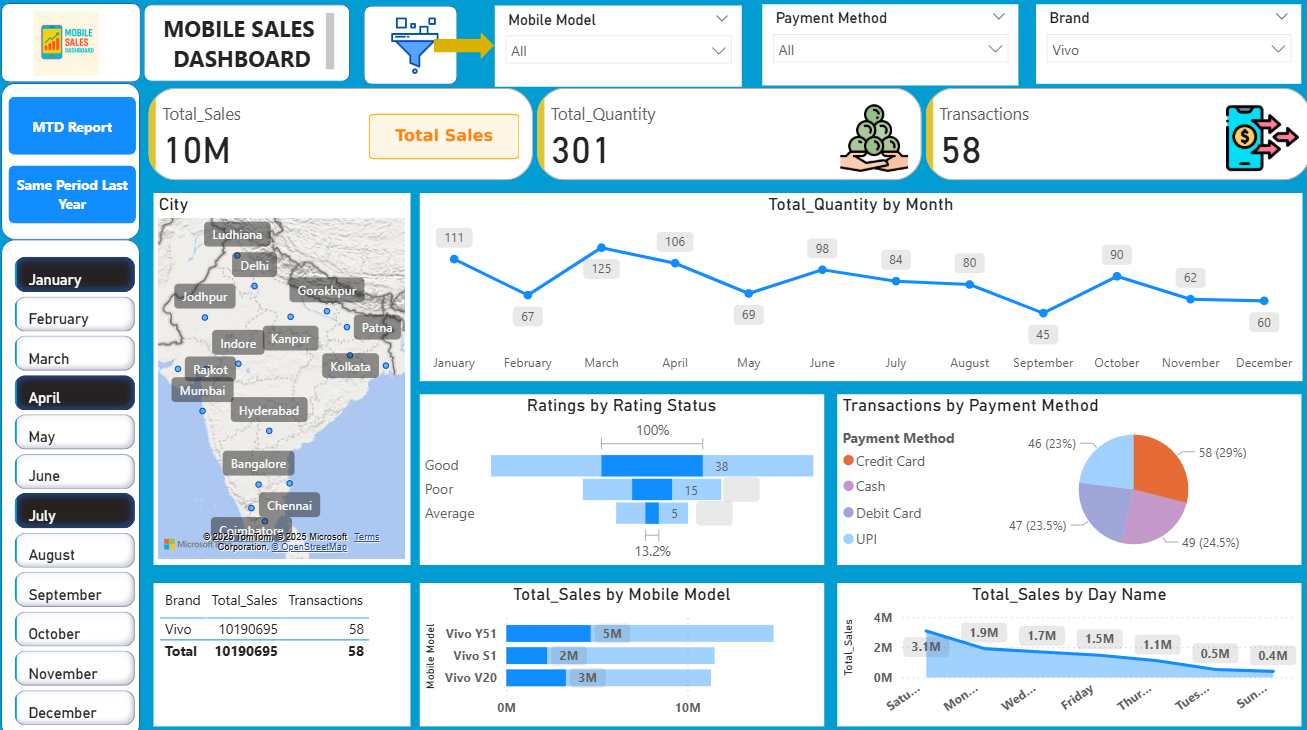

The page's visual inventory and layout, read from the dashboard file:
{"tool":"powerbi","page":{"name":"Dashboard","canvas":[1280,720],"ordinal":0},"visuals":[{"type":"shape","box":[10,10,135,76.7],"z":0},{"type":"shape","box":[10.1,86.6,134.2,151.5],"z":1000},{"type":"shape","box":[10.1,238.1,134.2,481.9],"z":2000},{"type":"advancedSlicerVisual","fields":{"Values":["Custom_Calender.Date.Variation.Date Hierarchy.Month"]},"box":[18.3,250,126.7,470],"z":3000},{"type":"cardVisual","fields":{"Data":["Sales_Data.Total_Sales","Sales_Data.Total_Quantity","Sales_Data.Transactions"]},"box":[147.7,87.2,1131.9,99.7],"z":4000},{"type":"slicer","fields":{"Values":["Sales_Data.Payment Method"]},"box":[744,10.7,247.4,78.3],"z":5000},{"type":"slicer","fields":{"Values":["Sales_Data.Brand"]},"box":[1009.1,10.7,256.3,76.5],"z":6000},{"type":"slicer","fields":{"Values":["Sales_Data.Mobile Model"]},"box":[485.9,12.5,238.5,78.3],"z":7000},{"type":"shape","box":[359.5,12.5,90.8,76.5],"z":8000},{"type":"image","box":[359.5,17.8,99.7,65.9],"z":9000},{"type":"shape","box":[427.1,37.4,58.7,26.7],"z":10000},{"type":"shape","box":[147.7,10.7,199.3,74.8],"z":11000},{"type":"textbox","box":[156.6,14.2,179.8,65.9],"z":12000},{"type":"map","fields":{"Category":["Sales_Data.City"]},"box":[156.7,193.3,248.3,358.3],"z":13000},{"type":"lineChart","fields":{"Y":["Sales_Data.Total_Quantity"],"Category":["Custom_Calender.Date.Variation.Date Hierarchy.Month"]},"box":[413.3,193.3,851.7,181.7],"z":14000},{"type":"funnel","title":" Ratings by Rating Status","fields":{"Y":["CountNonNull(Sales_Data.Customer Ratings)"],"Category":["Sales_Data.Rating Status"]},"box":[413.3,386.7,390,165],"z":15000},{"type":"pieChart","fields":{"Y":["Sales_Data.Transactions"],"Category":["Sales_Data.Payment Method"]},"box":[816.7,386.7,448.3,165],"z":16000},{"type":"clusteredBarChart","fields":{"Y":["Sales_Data.Total_Sales"],"Category":["Sales_Data.Mobile Model"]},"box":[413.3,570,390,138.3],"z":17000},{"type":"areaChart","fields":{"Y":["Sales_Data.Total_Sales"],"Category":["Custom_Calender.Day Name"]},"box":[816.7,570,448.3,138.3],"z":18000},{"type":"tableEx","fields":{"Values":["Sales_Data.Brand","Sales_Data.Total_Sales","Sales_Data.Transactions"]},"box":[156.7,570,248.3,138.3],"z":19000},{"type":"pageNavigator","box":[16.7,100,123.3,123.3],"z":19001},{"type":"image","box":[1.7,11.7,143.3,73.3],"z":19002}]}

Visuals, with their boxes in screenshot pixels (x1, y1, x2, y2), scaled from the page's 1280x720 canvas onto the 1307x730 screenshot:
shape: 10 10 148 88
shape: 10 88 147 241
shape: 10 241 147 729
advancedSlicerVisual - Custom_Calender.Date.Variation.Date Hierarchy.Month: 19 253 148 729
cardVisual - Sales_Data.Total_Sales x Sales_Data.Total_Quantity: 151 88 1306 189
slicer - Sales_Data.Payment Method: 760 11 1012 90
slicer - Sales_Data.Brand: 1030 11 1292 88
slicer - Sales_Data.Mobile Model: 496 13 740 92
shape: 367 13 460 90
image: 367 18 469 85
shape: 436 38 496 65
shape: 151 11 354 87
textbox: 160 14 343 81
map - Sales_Data.City: 160 196 414 559
lineChart - Sales_Data.Total_Quantity x Custom_Calender.Date.Variation.Date Hierarchy.Month: 422 196 1292 380
" Ratings by Rating Status" funnel: 422 392 820 559
pieChart - Sales_Data.Transactions x Sales_Data.Payment Method: 834 392 1292 559
clusteredBarChart - Sales_Data.Total_Sales x Sales_Data.Mobile Model: 422 578 820 718
areaChart - Sales_Data.Total_Sales x Custom_Calender.Day Name: 834 578 1292 718
tableEx - Sales_Data.Brand x Sales_Data.Total_Sales: 160 578 414 718
pageNavigator: 17 101 143 226
image: 2 12 148 86
